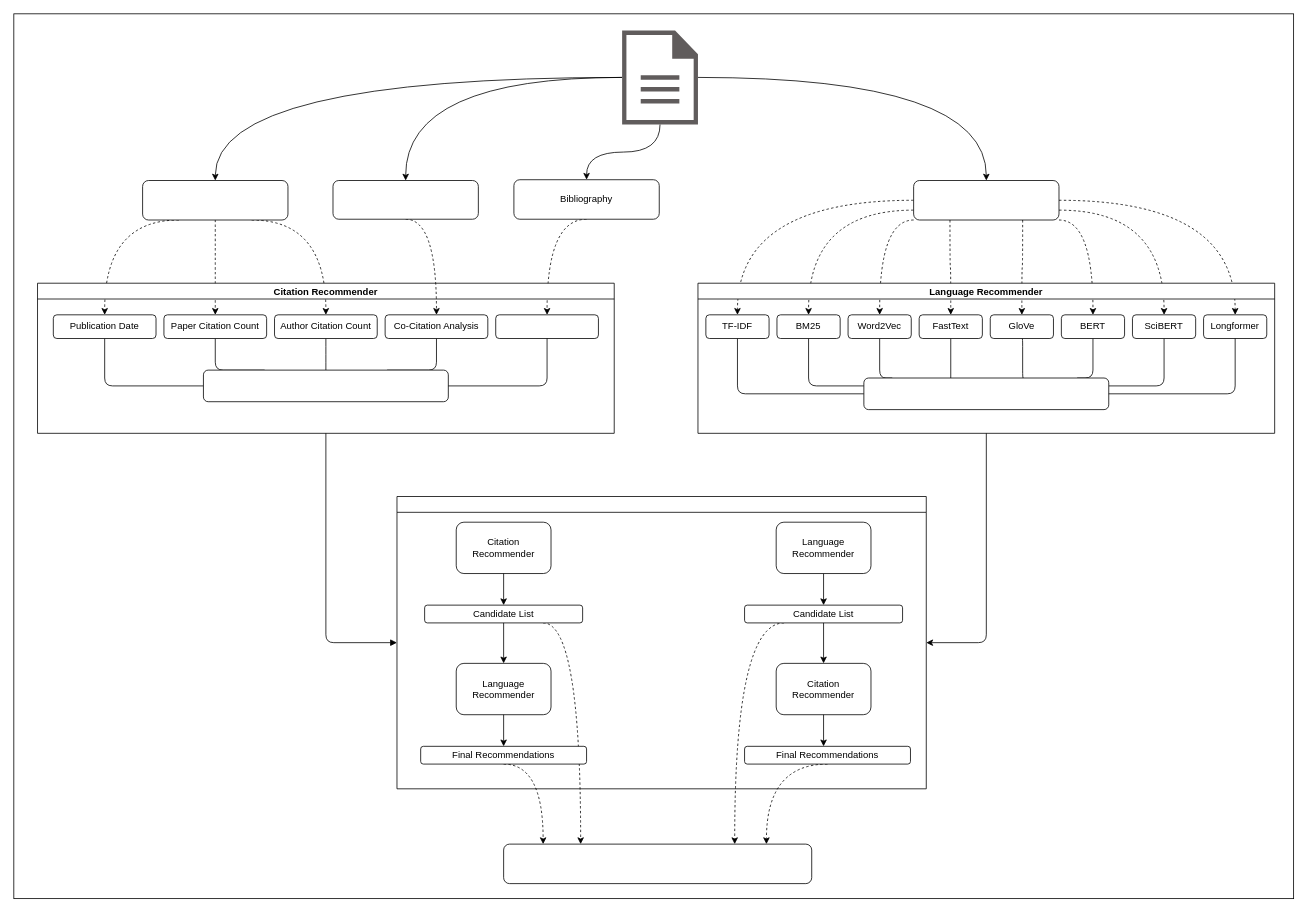
Image size: 1307x912. Some labels were removed from this diagram. The box of each missing label's shape, as (x1, y1, x2, y2) in pixels:
Abstract: (913, 180, 1059, 220)
Average Precision: (503, 843, 812, 884)
Bibliographic Coupling: (495, 314, 598, 339)
Choose One: (863, 377, 1109, 410)
Citations: (332, 180, 478, 219)
Feature Weighting: (203, 369, 448, 402)
Hybrid Recommender: (396, 496, 926, 789)
Metadata: (142, 180, 288, 220)
